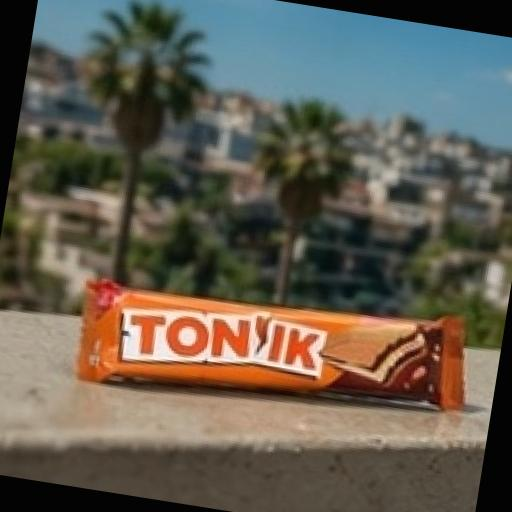tonik: (23, 157, 512, 512)
